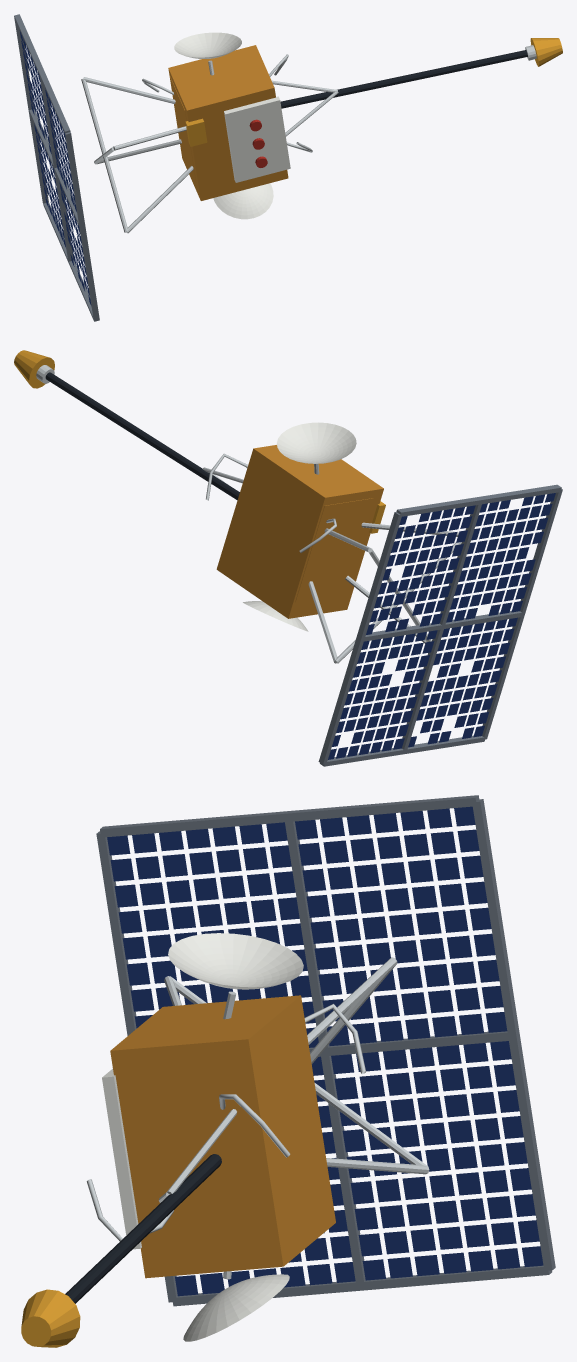
The model's file is INSAT-1B.glb.
3 renders of one model, top to bottom at view 1: azimuth 30°, elevation 25°; view 2: azimuth 150°, elevation 25°; view 3: azimuth 270°, elevation 25°, orthographic. The views are drawn at different scales.
Parts seen in each view (by area): view 1: INSAT_1B_MAIN_BUS, INSAT_1B_SOLAR_PANEL_FRAME, INSAT_1B_CONSOLIDATED_GOLD_MLI, INSAT_1B_CONSOLIDATED_SOLAR_CELLS, INSAT_1B_FRONT_EQUIPMENT_PANEL, INSAT_1B_CONSOLIDATED_SOLAR_TRUSS, INSAT_1B_LONG_BOOM, INSAT_1B_LOWER_COMMUNICATION_DISH, INSAT_1B_UPPER_COMMUNICATION_DISH, INSAT_1B_BOOM_TERMINAL, INSAT_1B_BOOM_SUPPORTS, INSAT_1B_GOLD_EXTERNAL_UNIT (+1 smaller); view 2: INSAT_1B_CONSOLIDATED_SOLAR_CELLS, INSAT_1B_MAIN_BUS, INSAT_1B_SOLAR_PANEL_FRAME, INSAT_1B_CONSOLIDATED_GOLD_MLI, INSAT_1B_UPPER_COMMUNICATION_DISH, INSAT_1B_CONSOLIDATED_SOLAR_TRUSS, INSAT_1B_LONG_BOOM, INSAT_1B_BOOM_TERMINAL, INSAT_1B_LOWER_COMMUNICATION_DISH; view 3: INSAT_1B_CONSOLIDATED_SOLAR_CELLS, INSAT_1B_MAIN_BUS, INSAT_1B_SOLAR_PANEL_FRAME, INSAT_1B_UPPER_COMMUNICATION_DISH, INSAT_1B_CONSOLIDATED_SOLAR_TRUSS, INSAT_1B_CONSOLIDATED_GOLD_MLI, INSAT_1B_LOWER_COMMUNICATION_DISH, INSAT_1B_LONG_BOOM, INSAT_1B_BOOM_TERMINAL, INSAT_1B_FRONT_EQUIPMENT_PANEL, INSAT_1B_CONSOLIDATED_ANTENNA_LOOPS, INSAT_1B_BOOM_SUPPORTS.
Part boxes in pixels (box(x1,y1,x2,y2)): INSAT_1B_MAIN_BUS: box(168, 45, 288, 200); INSAT_1B_SOLAR_PANEL_FRAME: box(14, 14, 99, 321); INSAT_1B_CONSOLIDATED_GOLD_MLI: box(169, 49, 265, 182); INSAT_1B_CONSOLIDATED_SOLAR_CELLS: box(19, 30, 91, 305); INSAT_1B_FRONT_EQUIPMENT_PANEL: box(224, 96, 290, 182); INSAT_1B_CONSOLIDATED_SOLAR_TRUSS: box(81, 77, 193, 233); INSAT_1B_LONG_BOOM: box(280, 50, 527, 108); INSAT_1B_LOWER_COMMUNICATION_DISH: box(213, 183, 273, 219); INSAT_1B_UPPER_COMMUNICATION_DISH: box(174, 32, 241, 58); INSAT_1B_BOOM_TERMINAL: box(525, 38, 562, 66); INSAT_1B_BOOM_SUPPORTS: box(272, 80, 338, 136); INSAT_1B_GOLD_EXTERNAL_UNIT: box(185, 118, 207, 146); INSAT_1B_CONSOLIDATED_SOLAR_CELLS: box(328, 493, 555, 759); INSAT_1B_MAIN_BUS: box(216, 445, 383, 618); INSAT_1B_SOLAR_PANEL_FRAME: box(318, 484, 562, 766); INSAT_1B_CONSOLIDATED_GOLD_MLI: box(293, 460, 381, 602); INSAT_1B_UPPER_COMMUNICATION_DISH: box(277, 422, 356, 463); INSAT_1B_CONSOLIDATED_SOLAR_TRUSS: box(308, 522, 461, 663); INSAT_1B_LONG_BOOM: box(45, 372, 239, 500); INSAT_1B_BOOM_TERMINAL: box(14, 350, 54, 388); INSAT_1B_LOWER_COMMUNICATION_DISH: box(243, 601, 308, 631); INSAT_1B_CONSOLIDATED_SOLAR_CELLS: box(107, 806, 543, 1296); INSAT_1B_MAIN_BUS: box(110, 995, 335, 1278); INSAT_1B_SOLAR_PANEL_FRAME: box(96, 795, 555, 1306); INSAT_1B_UPPER_COMMUNICATION_DISH: box(168, 933, 303, 989); INSAT_1B_CONSOLIDATED_SOLAR_TRUSS: box(164, 957, 429, 1174); INSAT_1B_CONSOLIDATED_GOLD_MLI: box(121, 998, 282, 1046); INSAT_1B_LOWER_COMMUNICATION_DISH: box(183, 1274, 289, 1341); INSAT_1B_LONG_BOOM: box(65, 1154, 221, 1303); INSAT_1B_BOOM_TERMINAL: box(21, 1289, 80, 1347); INSAT_1B_FRONT_EQUIPMENT_PANEL: box(102, 1068, 141, 1249); INSAT_1B_CONSOLIDATED_ANTENNA_LOOPS: box(86, 1003, 365, 1241); INSAT_1B_BOOM_SUPPORTS: box(158, 1109, 236, 1202).
Bounding box in the file's own units: 7 × 3.52 × 3.37.
